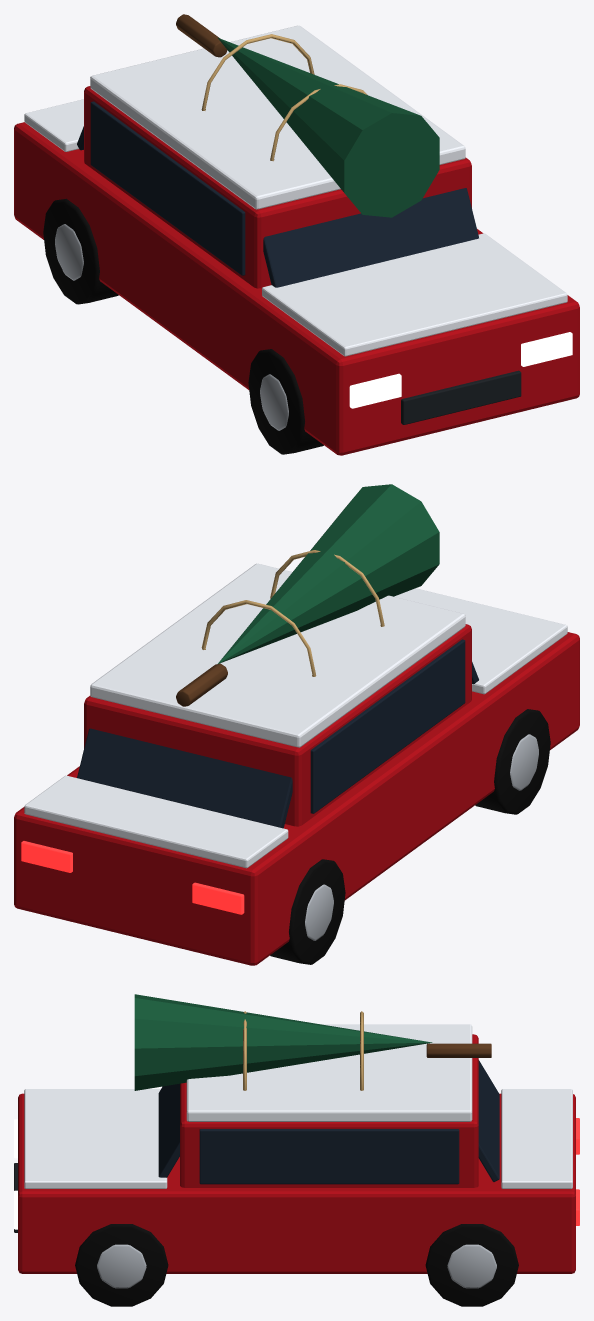
The model's file is car_red.glb.
3 renders of one model, top to bottom at view 1: azimuth 30°, elevation 25°; view 2: azimuth 150°, elevation 25°; view 3: azimuth 270°, elevation 25°, orthographic. The views are drawn at different scales.
Parts seen in each view (by area): view 1: car_red; view 2: car_red; view 3: car_red.
Part boxes in pixels (box(x1,y1,x2,y2)): car_red: box(14, 14, 579, 455); car_red: box(14, 484, 579, 965); car_red: box(14, 994, 579, 1306).
Bounding box in the file's own units: 1.91 × 2.19 × 4.36.
